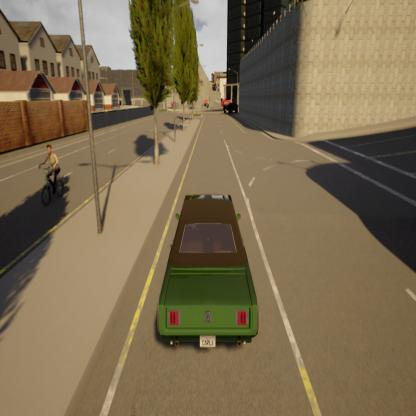Cars: (144, 180, 262, 364), (219, 96, 240, 115)
